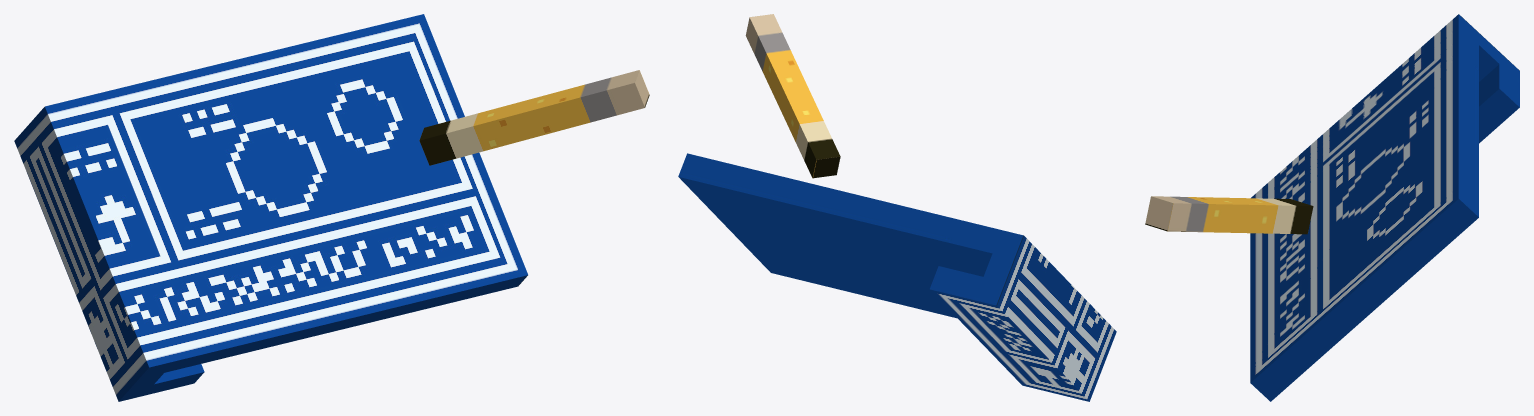
File: CREATICON.FBX
The picture shows the model from 3 angles, left to right: view 1: azimuth 30°, elevation 25°; view 2: azimuth 150°, elevation 25°; view 3: azimuth 270°, elevation 25°; orthographic projection. The views are drawn at different scales.
Parts seen in each view (by area): view 1: Box001, Box002; view 2: Box001, Box002; view 3: Box001, Box002.
Boxes of the visible parts, x1,y1,x2,y2 form: Box001: (14, 14, 527, 401); Box002: (419, 70, 649, 165); Box001: (678, 153, 1116, 401); Box002: (745, 14, 840, 178); Box001: (1250, 14, 1519, 401); Box002: (1145, 196, 1313, 234).
Bounding box in the file's own units: 182 × 103 × 129.
